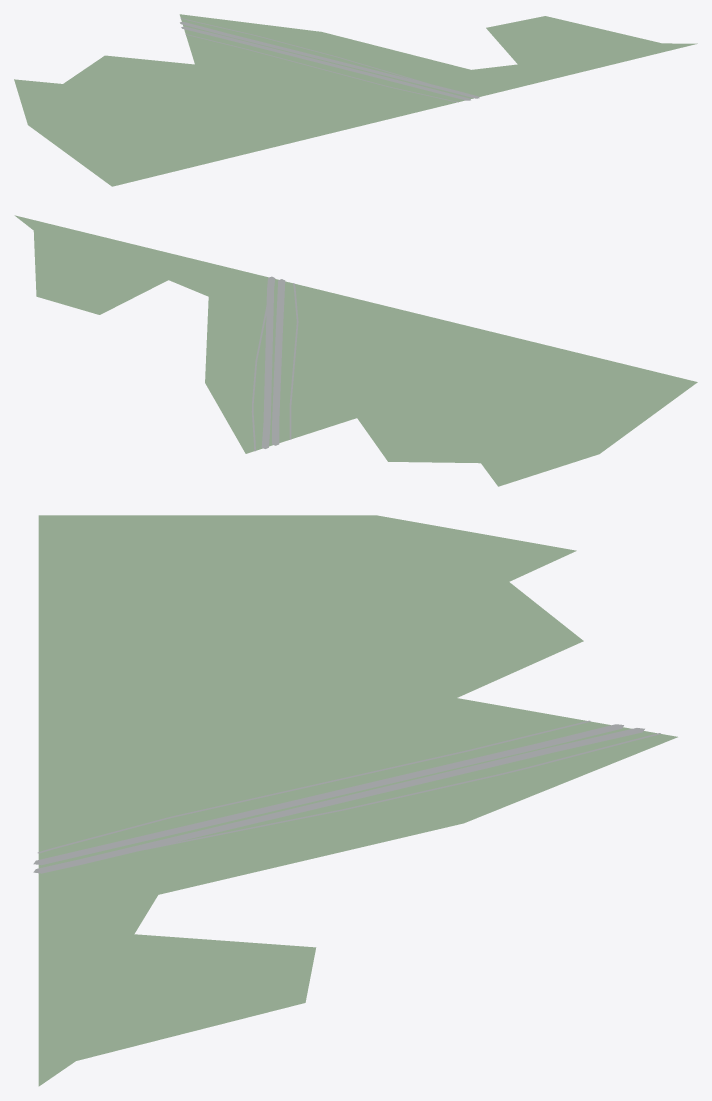
File: overview-known--2_5.glb
The picture shows the model from 3 angles, top to bottom: view 1: azimuth 30°, elevation 25°; view 2: azimuth 150°, elevation 25°; view 3: azimuth 270°, elevation 25°; orthographic projection. The views are drawn at different scales.
Bounding box in the file's own units: 1322 × 0.2299 × 631.
